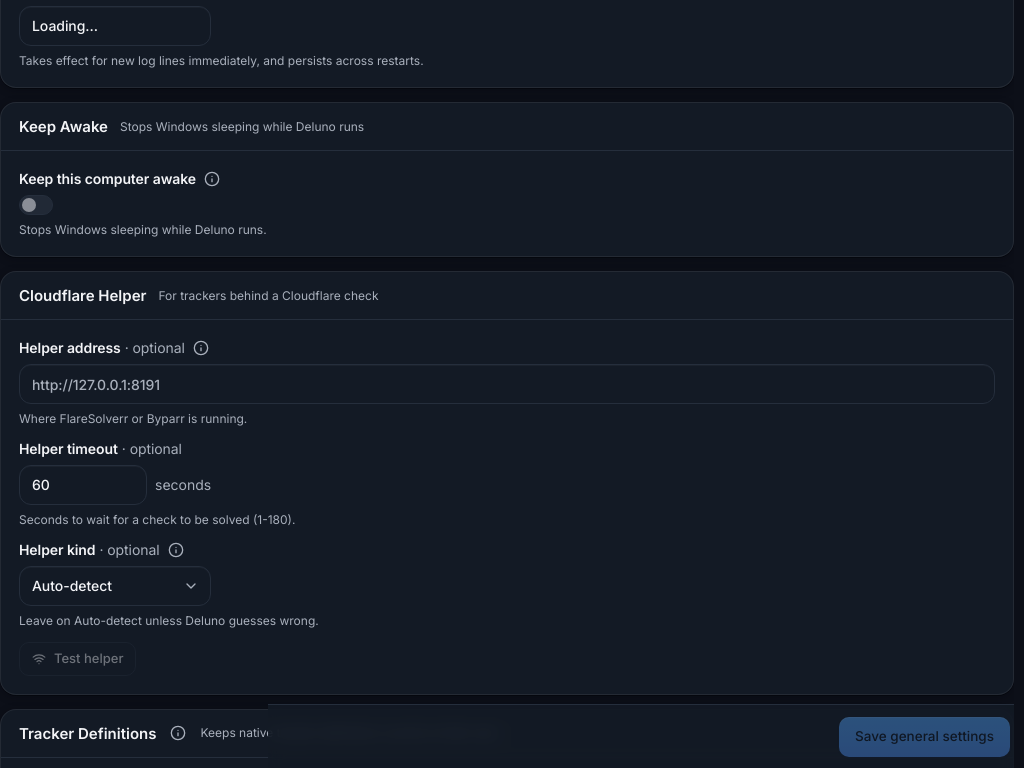
Test case: Cloudflare helper › saves the address trimmed, a blank timeout as 60 seconds and the chosen kind, in one PATCH
(page scrolled)
Type "  http://127.0.0.1:8191  " into the field with placeholder "http://127.0.0.1:8191".
click(507, 384); type("  http://127.0.0.1:8191  ")  # box [19,364,995,404]
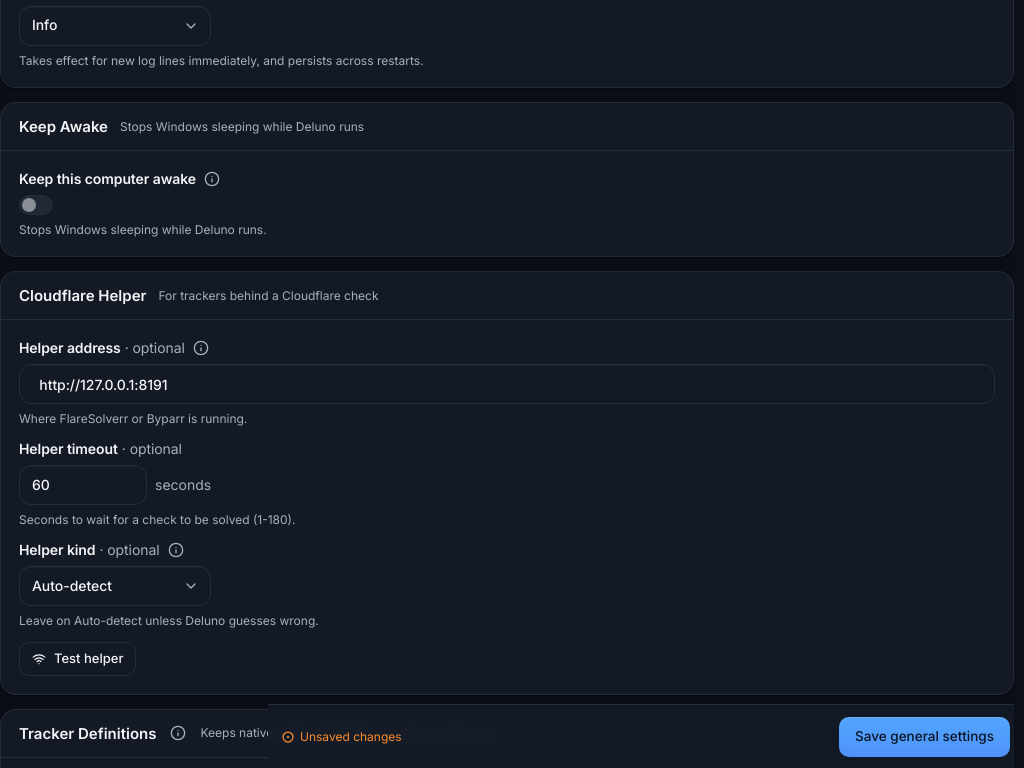
Clear the number field with placeholder "60" at (83, 485), box [19,465,147,505]
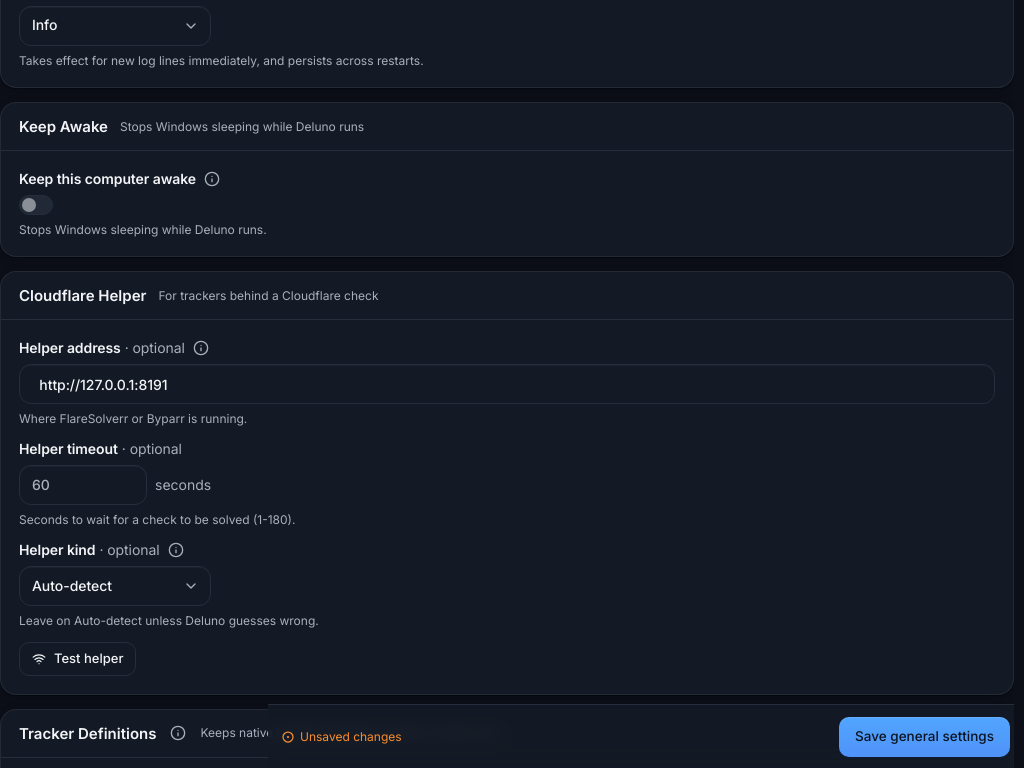
Select "Byparr" in the dropdown showing "Auto-detect" at (115, 586), box [19,566,211,606]
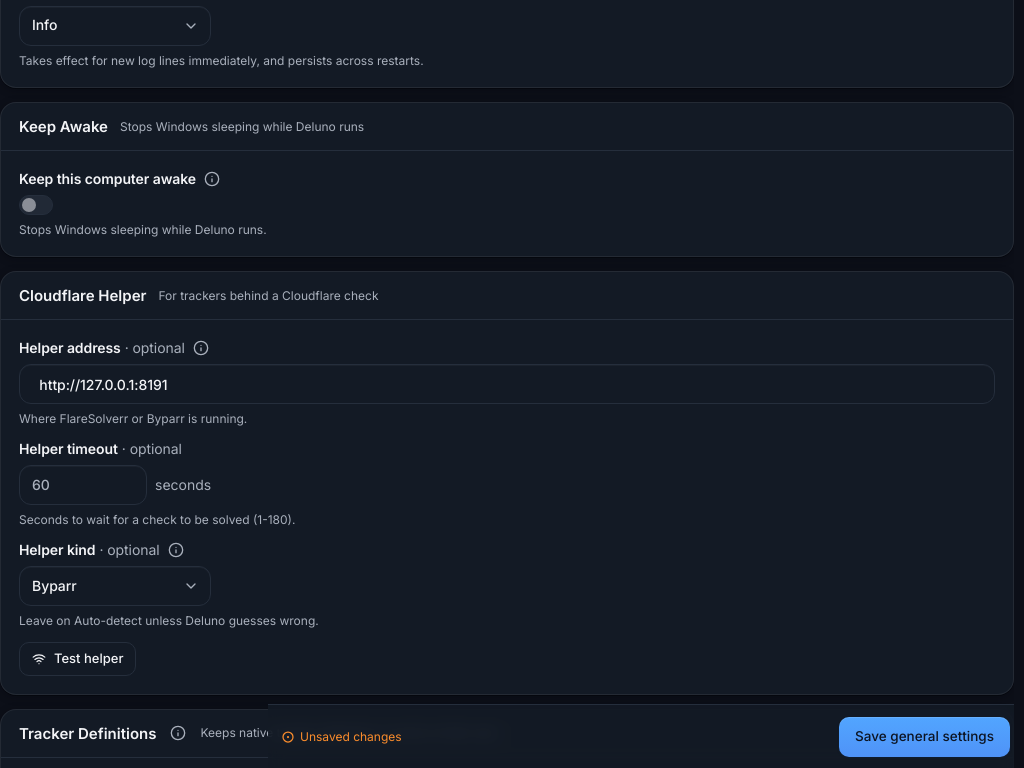
Click the button "Save general settings".
click(925, 736)  # box [839,716,1010,756]
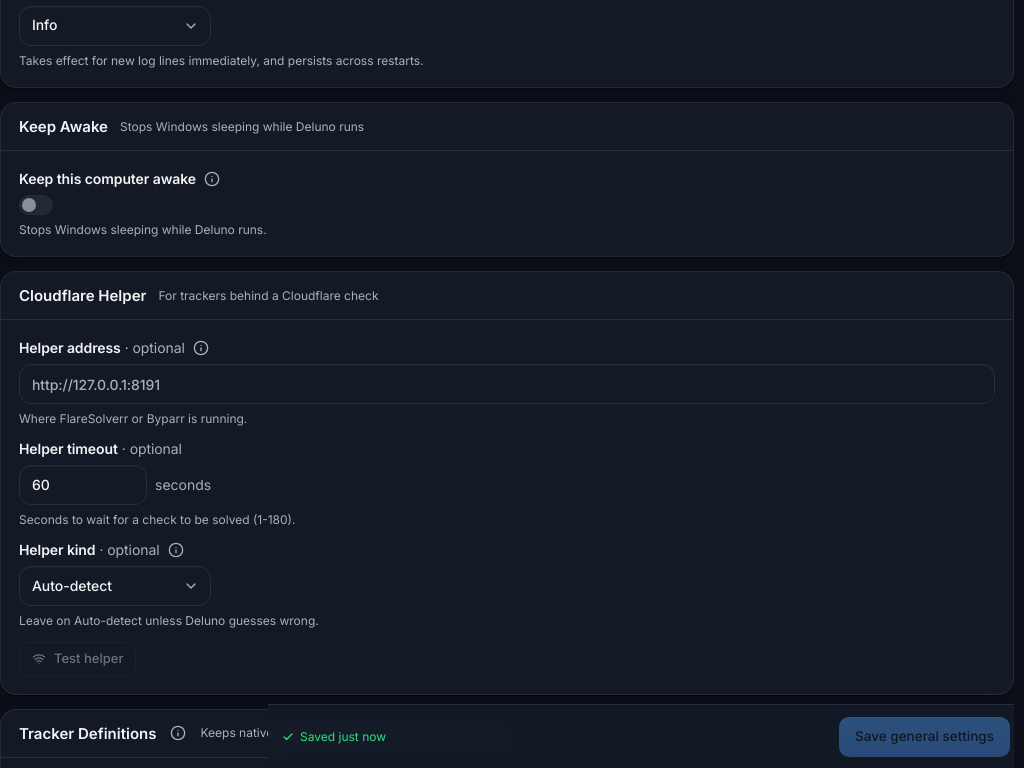
Check: the text "Saved just now" is shown, box [300,728,386,746]
